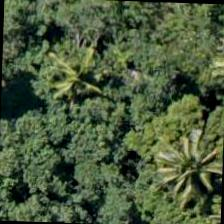Kelapa_Sawit: (22, 32, 116, 125), (134, 122, 224, 215)
